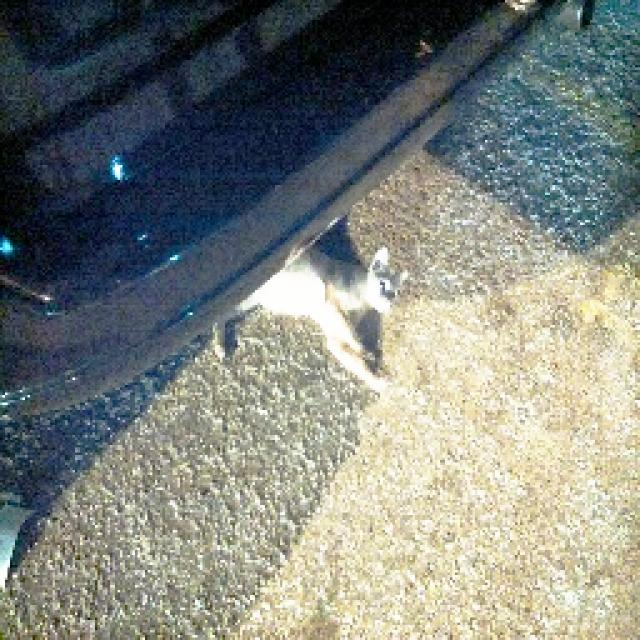cat: (187, 187, 436, 403)
